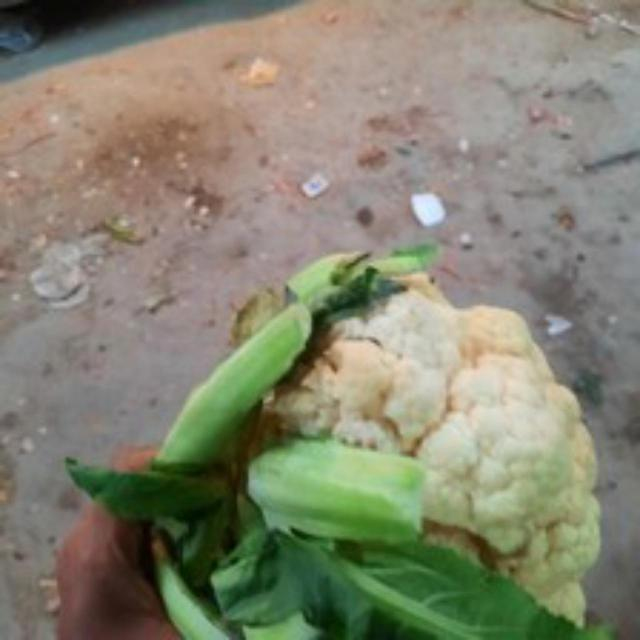cauliflower: (280, 268, 622, 637)
